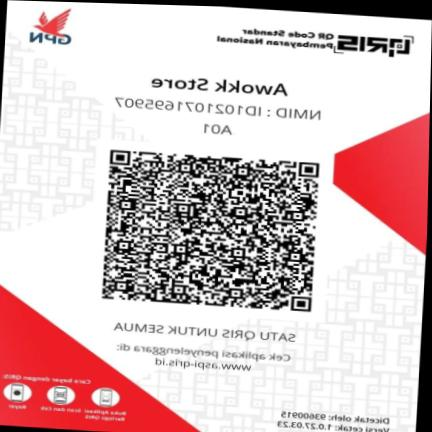Barcode_Asli: (84, 137, 336, 324)
